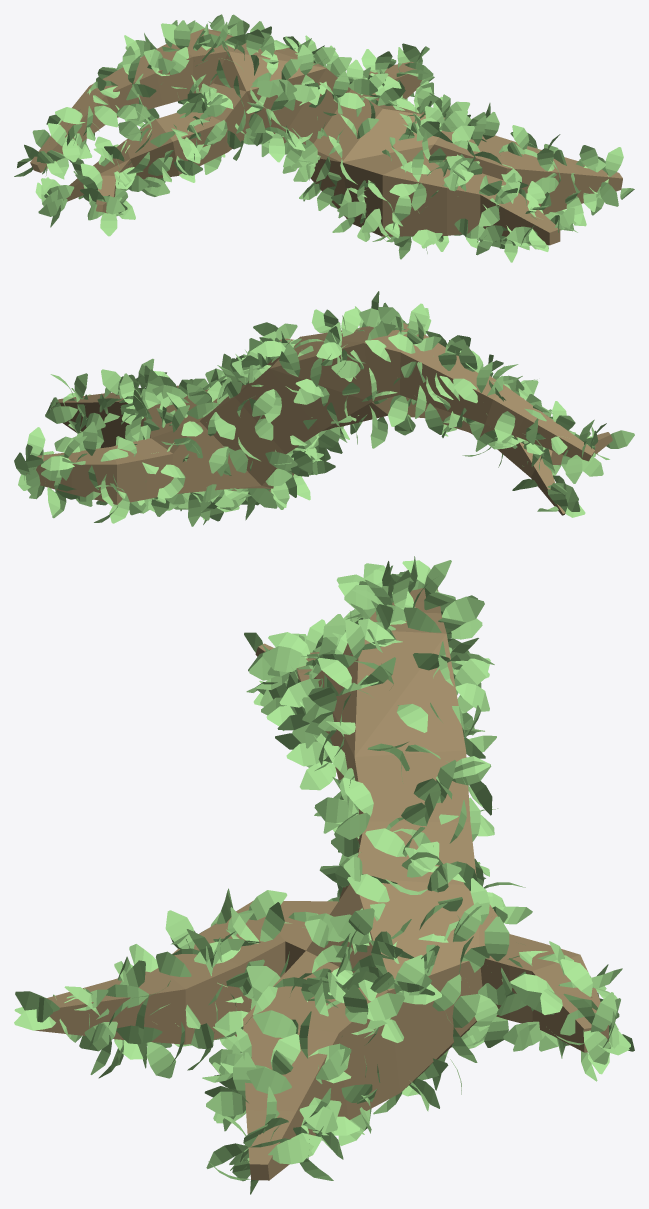
Rendered from bridge06.fbx.
The picture shows the model from 3 angles, top to bottom: view 1: azimuth 30°, elevation 25°; view 2: azimuth 150°, elevation 25°; view 3: azimuth 270°, elevation 25°; orthographic projection. The views are drawn at different scales.
Parts seen in each view (by area): view 1: Tree5, Tree5|leaf|Dupli|96, Tree5|leaf|Dupli|702, Tree5|leaf|Dupli|414, Tree5|leaf|Dupli|835, Tree5|leaf|Dupli|837; view 2: Tree5, Tree5|leaf|Dupli|38, Tree5|leaf|Dupli|952, Tree5|leaf|Dupli|487, Tree5|leaf|Dupli|86, Tree5|leaf|Dupli|841, Tree5|leaf|Dupli|535, Tree5|leaf|Dupli|842, Tree5|leaf|Dupli|66, Tree5|leaf|Dupli|36, Tree5|leaf|Dupli|824, Tree5|leaf|Dupli|789 (+15 smaller); view 3: Tree5, Tree5|leaf|Dupli|51.
Part boxes in pixels (x1=…): Tree5: x1=30, y1=28, x2=622, y2=245; Tree5|leaf|Dupli|96: x1=605, y1=147, x2=623, y2=176; Tree5|leaf|Dupli|702: x1=442, y1=110, x2=467, y2=132; Tree5|leaf|Dupli|414: x1=94, y1=105, x2=118, y2=127; Tree5|leaf|Dupli|835: x1=174, y1=20, x2=190, y2=49; Tree5|leaf|Dupli|837: x1=269, y1=133, x2=284, y2=162; Tree5: x1=26, y1=323, x2=612, y2=515; Tree5|leaf|Dupli|38: x1=494, y1=411, x2=515, y2=441; Tree5|leaf|Dupli|952: x1=388, y1=396, x2=408, y2=426; Tree5|leaf|Dupli|487: x1=252, y1=389, x2=275, y2=416; Tree5|leaf|Dupli|86: x1=453, y1=378, x2=477, y2=403; Tree5|leaf|Dupli|841: x1=341, y1=308, x2=360, y2=336; Tree5|leaf|Dupli|535: x1=45, y1=406, x2=77, y2=423; Tree5|leaf|Dupli|842: x1=265, y1=451, x2=297, y2=470; Tree5|leaf|Dupli|66: x1=248, y1=488, x2=277, y2=508; Tree5|leaf|Dupli|36: x1=331, y1=360, x2=360, y2=378; Tree5|leaf|Dupli|824: x1=425, y1=403, x2=443, y2=434; Tree5|leaf|Dupli|789: x1=409, y1=303, x2=427, y2=335; Tree5: x1=35, y1=588, x2=608, y2=1180; Tree5|leaf|Dupli|51: x1=253, y1=1010, x2=298, y2=1037.
Size of the model in its own units: 1421 by 618 by 918.
